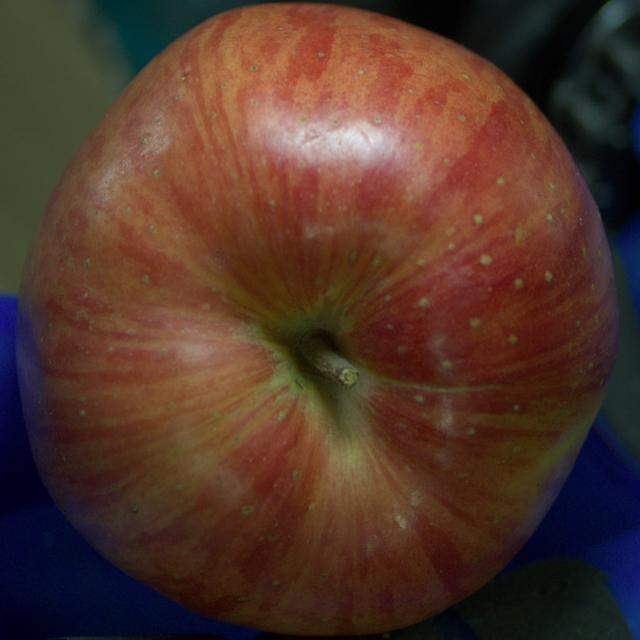apple: (16, 4, 618, 634)
pest: (178, 64, 192, 82)
